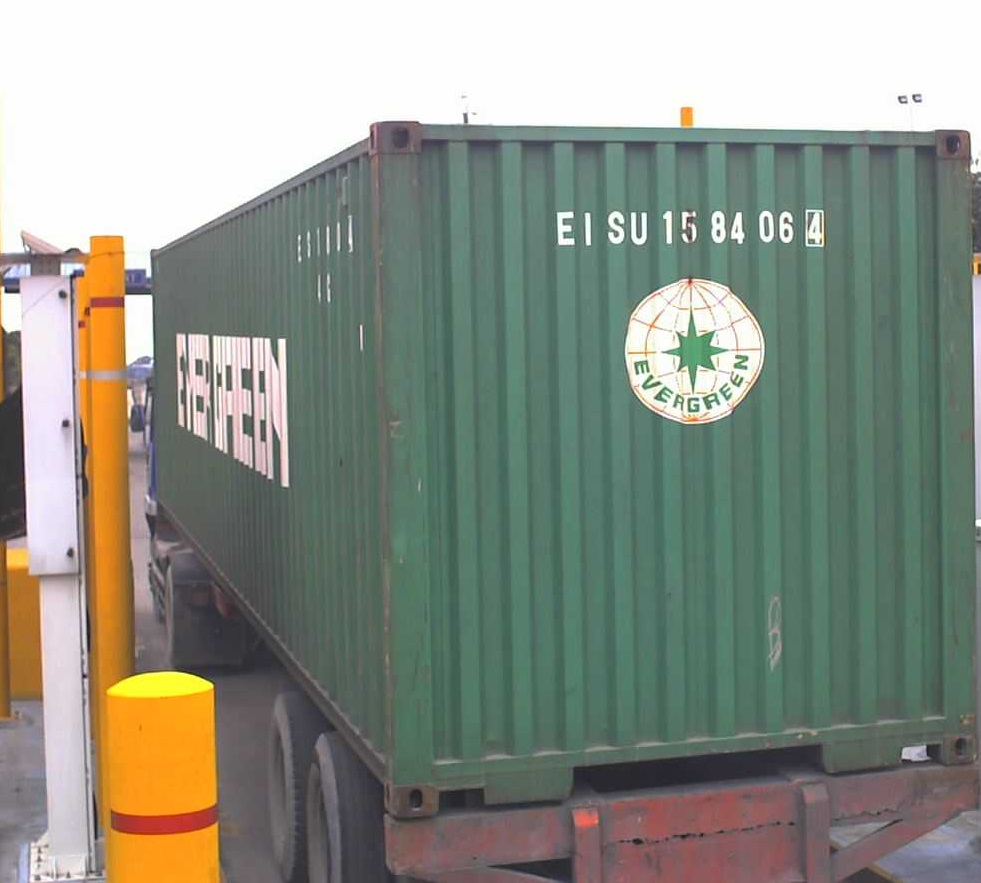container_no_door: (374, 114, 972, 811)
